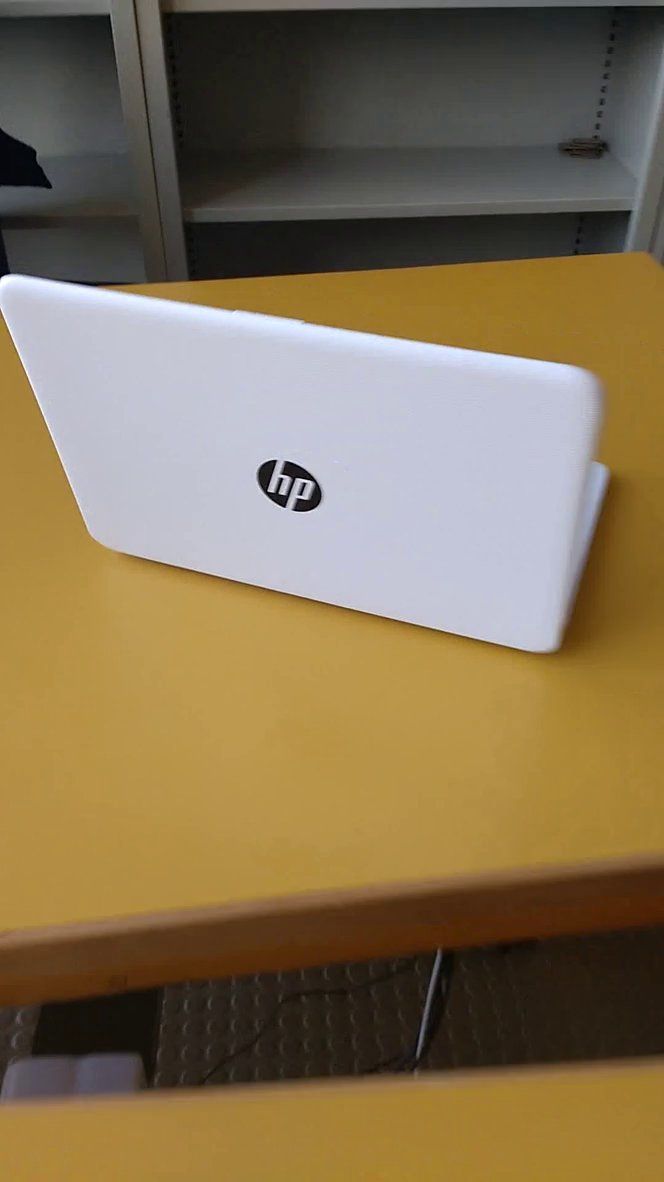laptop: (1, 256, 630, 683)
